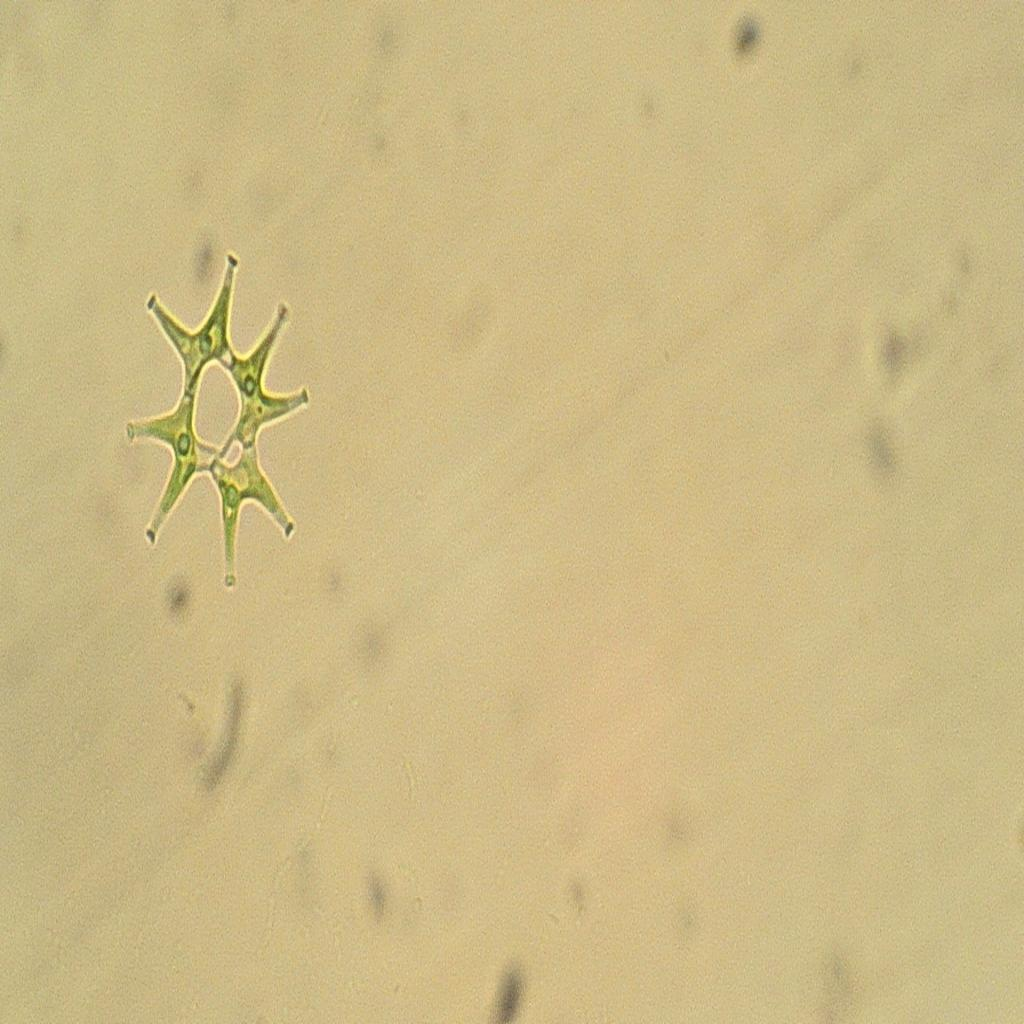Pediastrum_CF: (113, 235, 345, 606)
